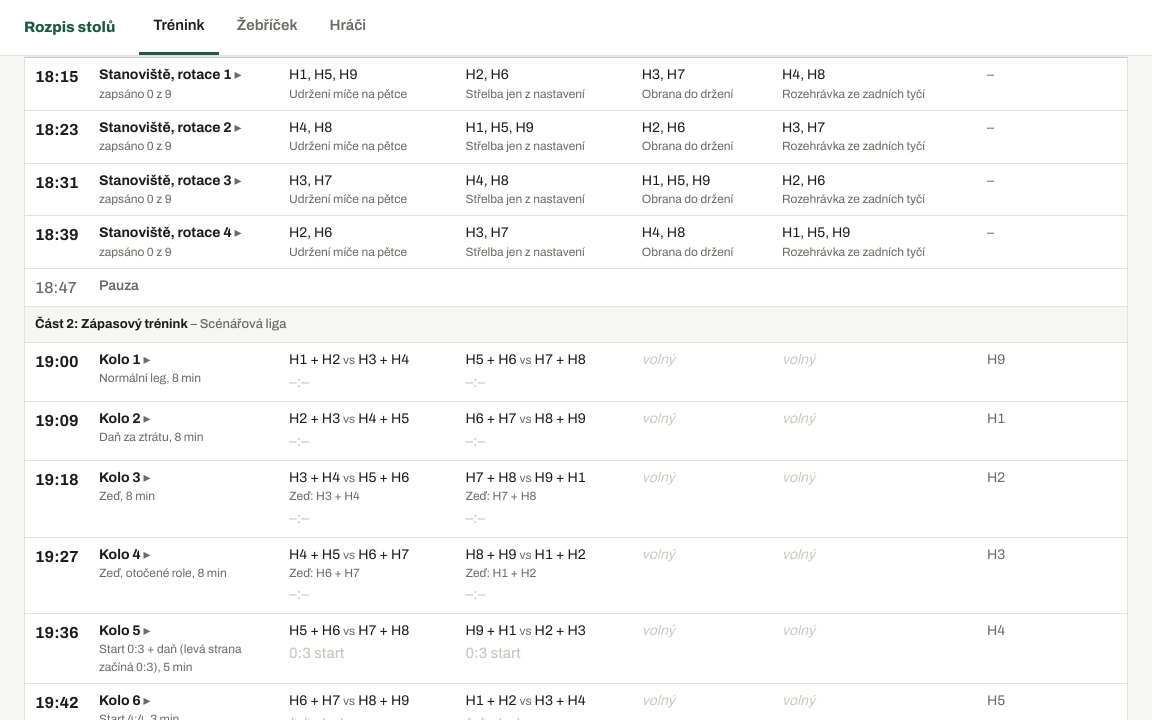
Test case: tabulka tréninku › ztráty jen u stolu s rozhodčím a mimo Daň
(page scrolled)
Click the button "Kolo 1": x=125, y=360 [99, 350, 151, 370]
(page scrolled)
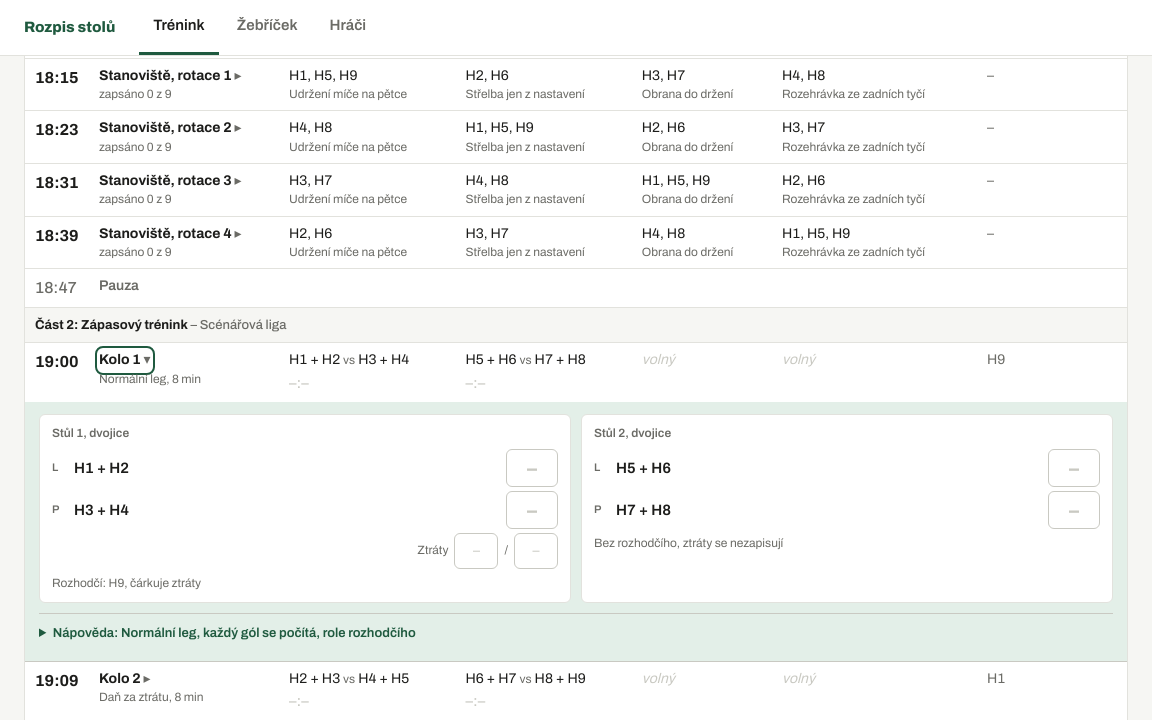
Now the number field named "Kolo 1, stůl 1: ztráty vlevo" is shown, box [454, 533, 498, 569]
Now the element named "Kolo 1, stůl 1" shows "Rozhodčí: H9", box [52, 576, 201, 590]
Now the element named "Kolo 1, stůl 2" shows "Bez rozhodčího, ztráty se nezapisují", box [594, 536, 783, 550]
Click the button "Kolo 2": x=125, y=679 [99, 669, 151, 689]
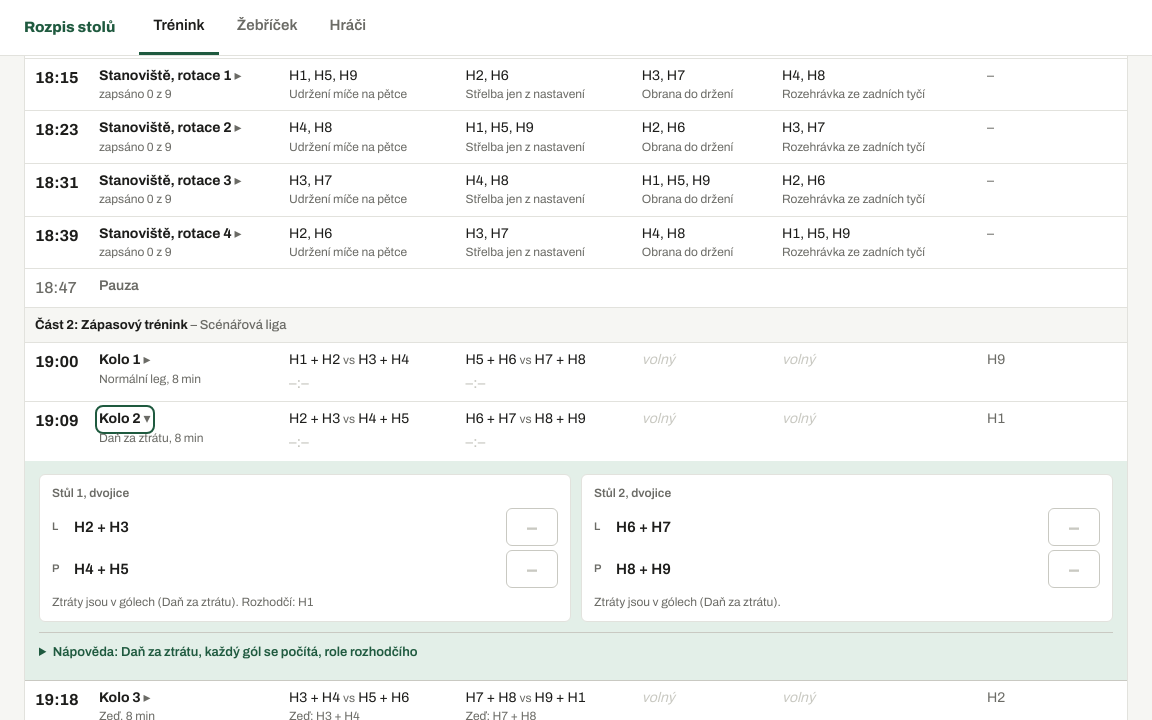
Now the element named "Kolo 2, stůl 1" shows "Ztráty jsou v gólech", box [52, 595, 314, 609]
